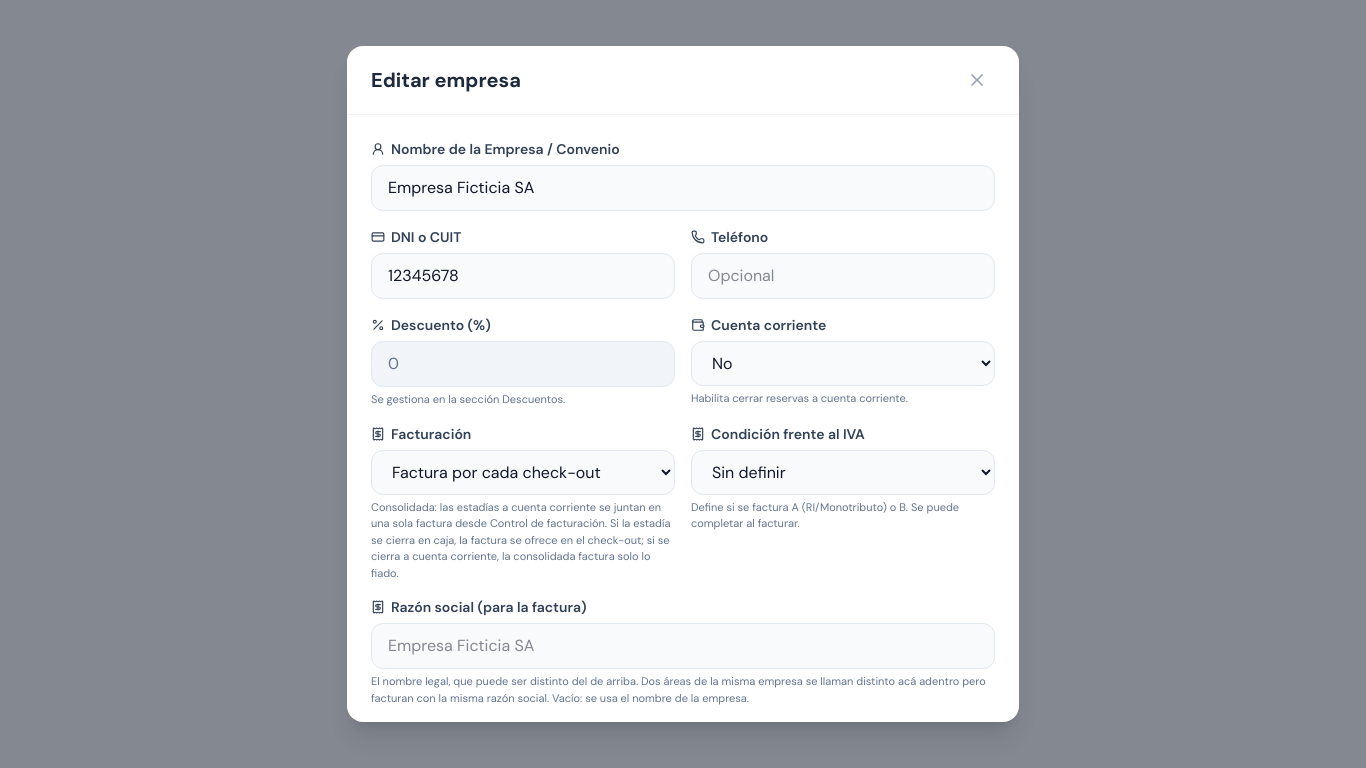
AssociatedClientModal: la consolidada de una empresa pide CUIT › corregir el documento a un CUIT válido cambia el aviso ámbar por la nota verde
Select "Sí — habilitada a fiar" in the dropdown labelled "Cuenta corriente" at {"x": 843, "y": 364}, box [691,341,995,386]
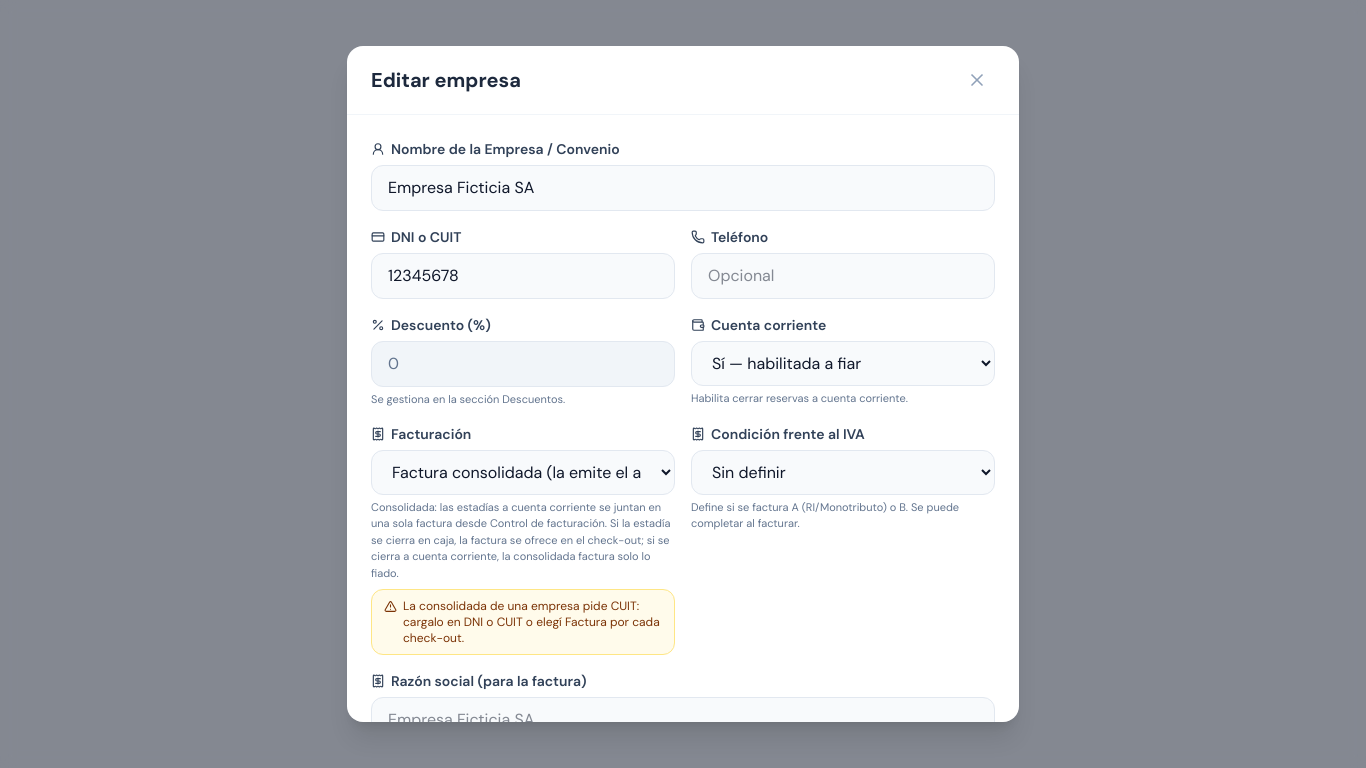
Result: the text "La consolidada de una empresa pide CUIT" is shown at [403,598,660,646]
Replace the text in the field labelled "DNI o CUIT" with "30-12345678-1" at {"x": 523, "y": 276}, box [371,253,675,299]
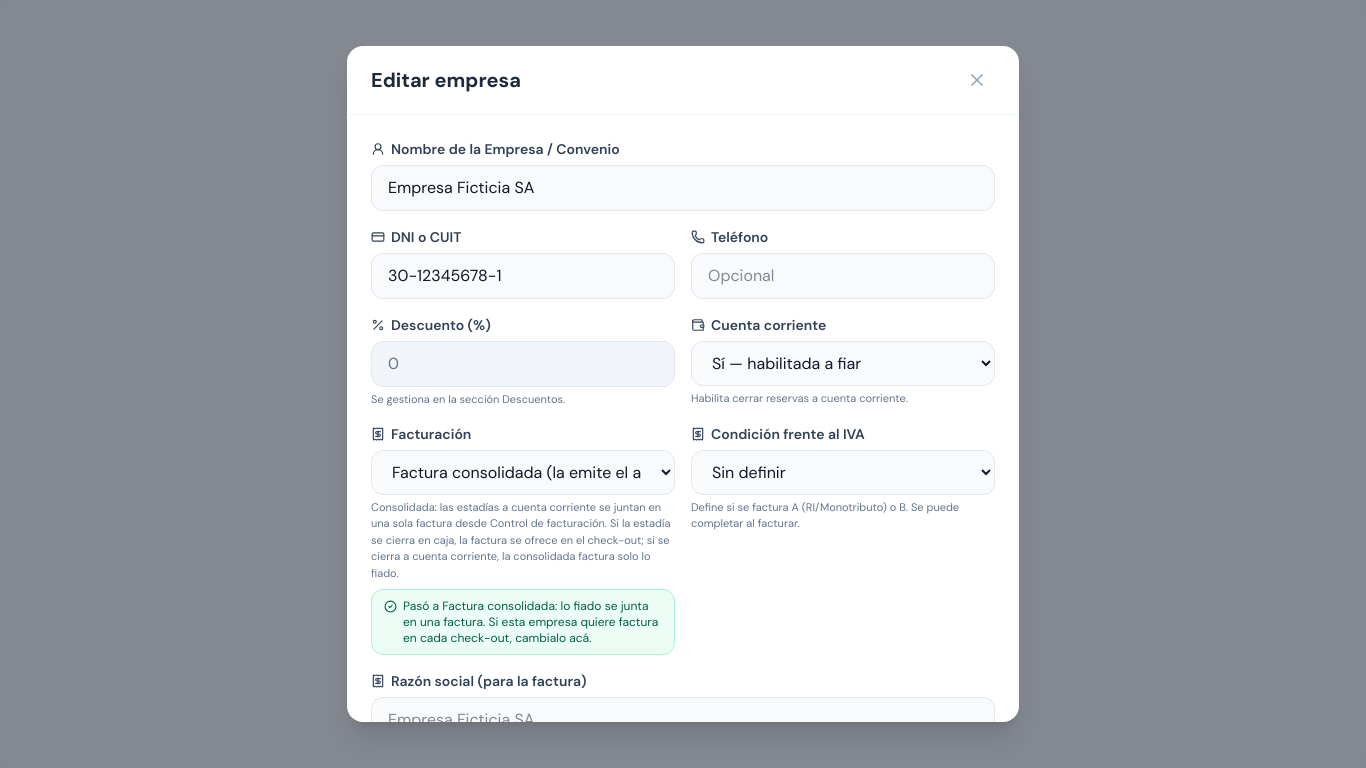
Result: the dropdown labelled "Facturación" shows "Factura consolidada (la emite el admin)" at [371,450,675,495]
Result: the text "La consolidada de una empresa pide CUIT" is gone
